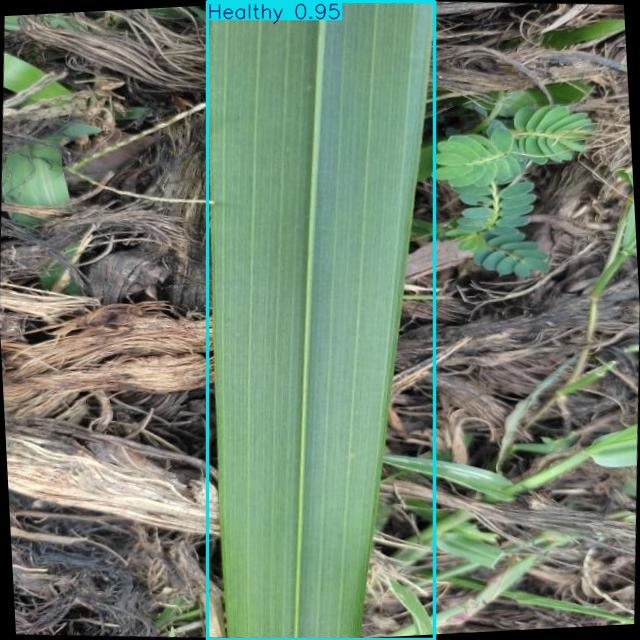Healthy: (207, 1, 434, 639)
